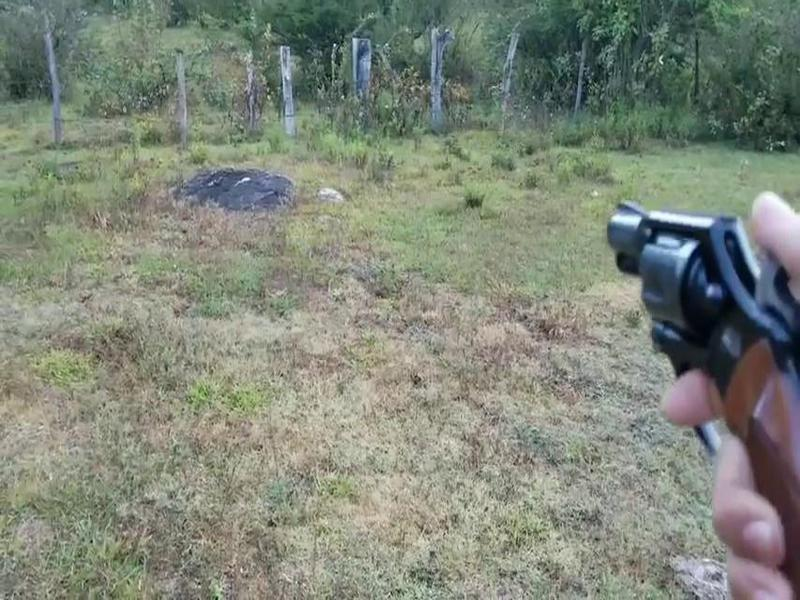Revolver: (588, 188, 800, 464)
